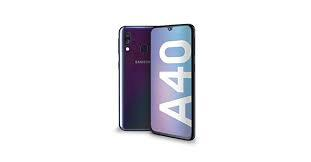Smartphone: (152, 25, 195, 136), (120, 27, 151, 130)
